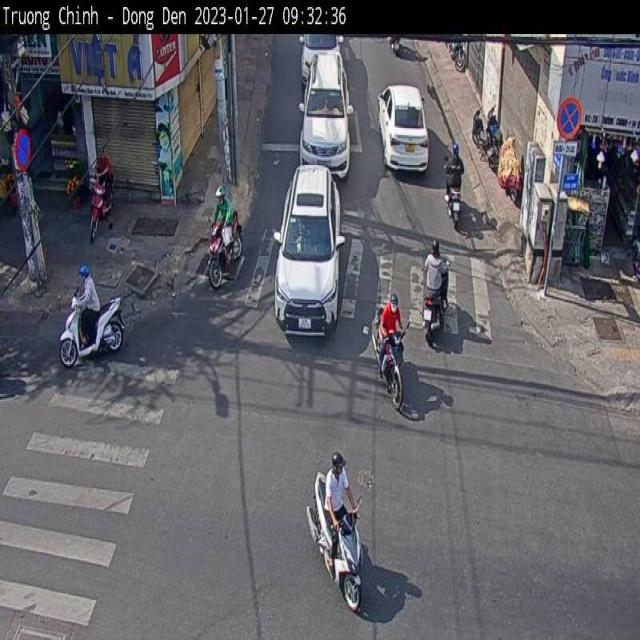helmet: (325, 444, 356, 500), (443, 130, 470, 192), (422, 227, 448, 280), (384, 286, 410, 336), (212, 182, 237, 218), (75, 262, 98, 300)
no_helmet: (96, 141, 114, 173)
